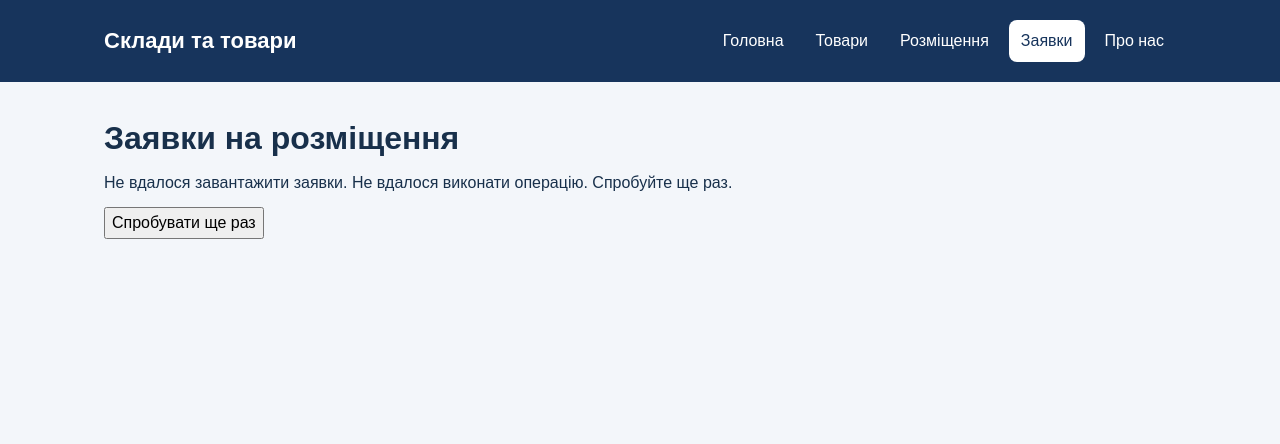
Test case: показує помилку і повторно завантажує дані
The width and height of the screenshot is (1280, 444).
Expected: the message shows "Не вдалося завантажити заявки.", x1=104 y1=174 x2=352 y2=191
Click the button "Спробувати ще раз" at (184, 223), box x1=104 y1=207 x2=264 y2=239
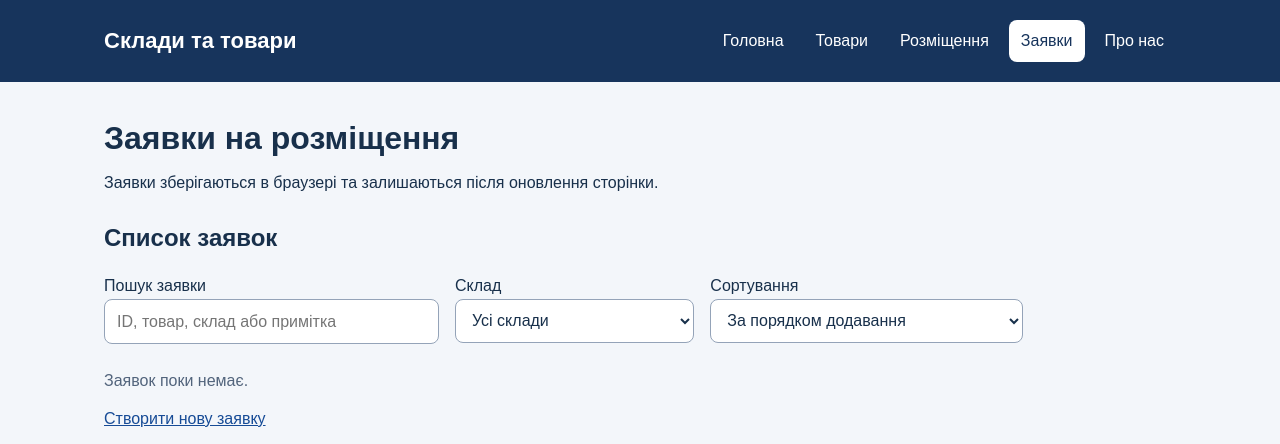
Expected: the text "Заявок поки немає." is shown, x1=104 y1=372 x2=248 y2=389
